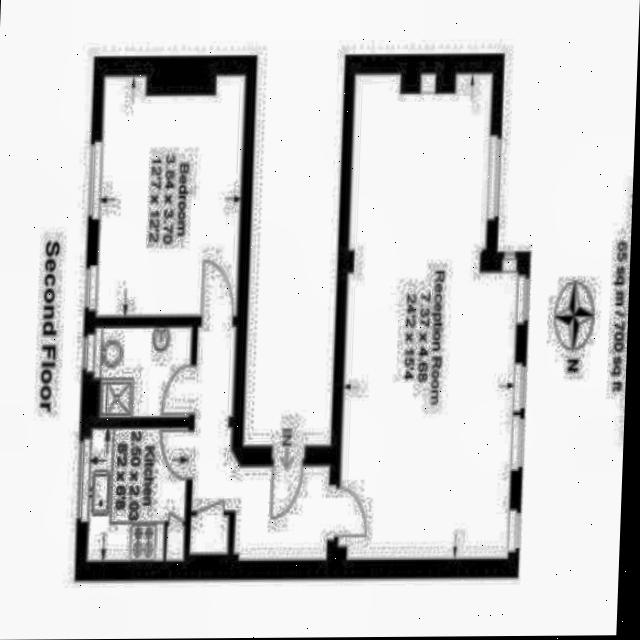room: (337, 69, 531, 564), (95, 71, 244, 328), (188, 325, 346, 562), (78, 424, 193, 564), (85, 327, 196, 418)
